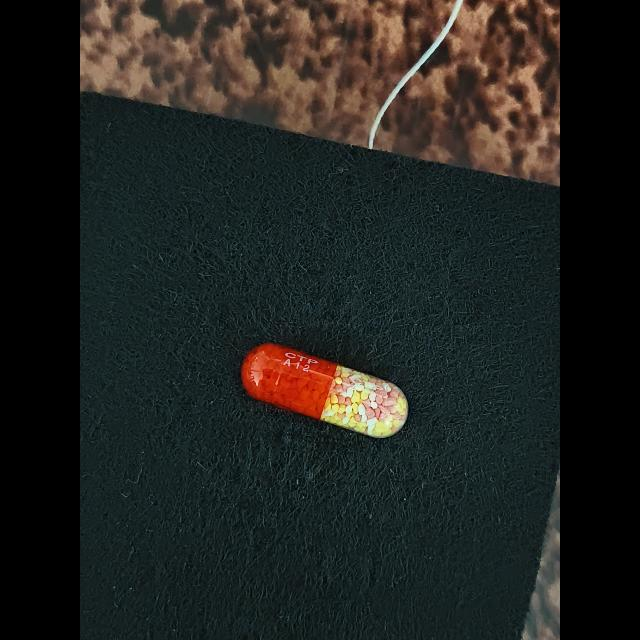Intact Capsule: (241, 343, 408, 438)
